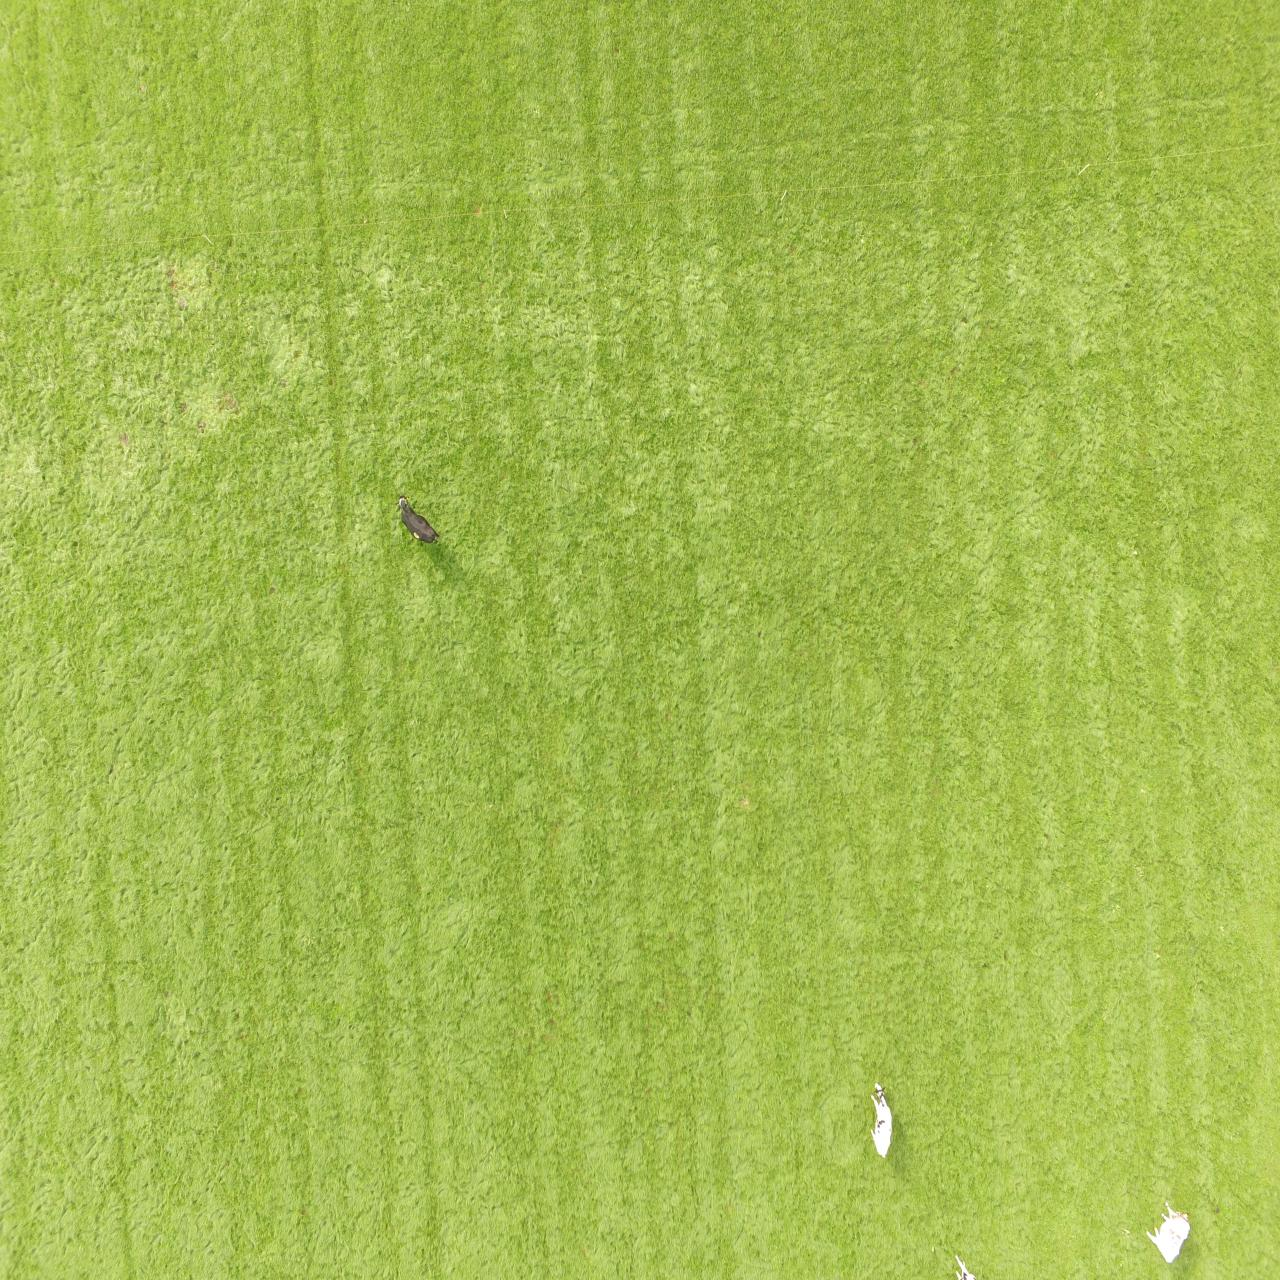cow: (1143, 1199, 1192, 1267), (392, 490, 442, 553), (865, 1078, 896, 1162)
